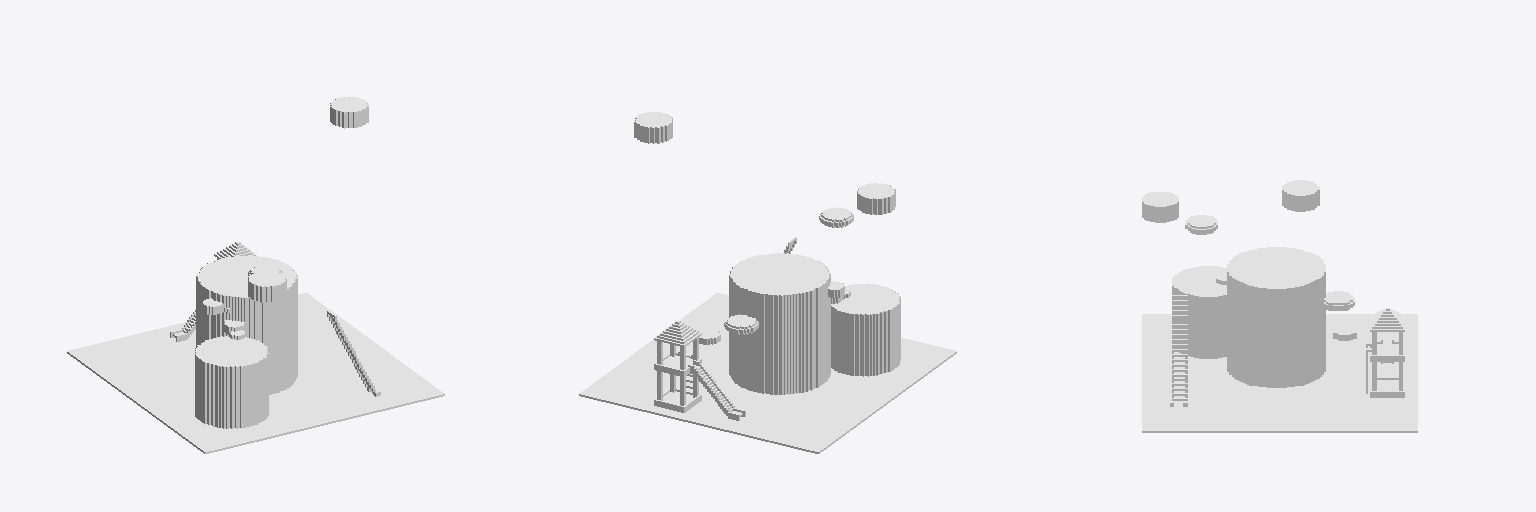
File: lev1-0.obj
3 views of the same model, side by side, from view 1: azimuth 30°, elevation 25°; view 2: azimuth 150°, elevation 25°; view 3: azimuth 270°, elevation 25° (orthographic).
Visible parts, largest first — view 1: object 1; view 2: object 1; view 3: object 1.
Part boxes in pixels (x1,y1,x2,y2): object 1: (67,96,444,453); object 1: (579,112,956,453); object 1: (1142,180,1417,432).
Size of the model in its own units: 12.6 by 11.9 by 12.6.